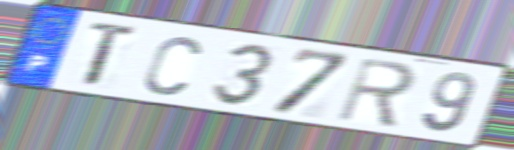3: (205, 42, 279, 108)
7: (271, 46, 354, 117)
9: (419, 69, 478, 135)
C: (141, 33, 204, 98)
R: (333, 54, 418, 129)
T: (81, 19, 142, 90)
